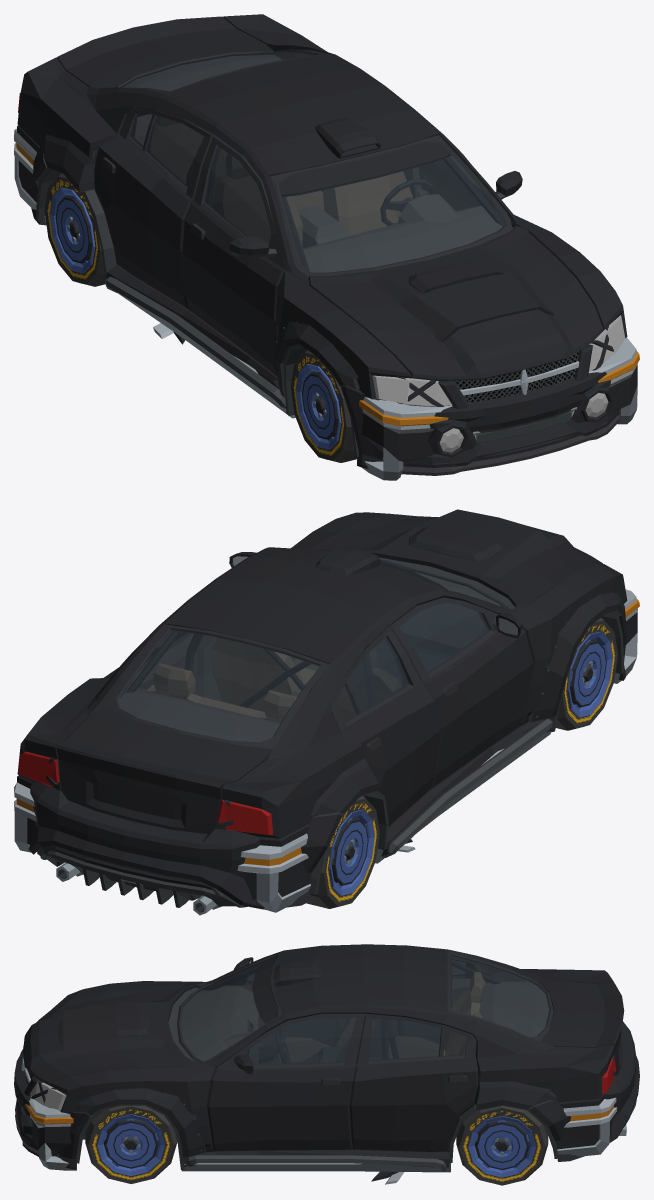
Rendered from redline_street_sedan.glb.
3 renders of one model, top to bottom at view 1: azimuth 30°, elevation 25°; view 2: azimuth 150°, elevation 25°; view 3: azimuth 270°, elevation 25°, orthographic. The views are drawn at different scales.
Parts seen in each view (by area): view 1: Body, Door_R, Glass, V_Fenders_04, V_Bonnet_01, V_Bonnet_02, Trunk, V_Front_Bumper_04, V_Front_Bumper_03, V_Bonnet_04, V_Fenders_02, V_Front_Bumper_02 (+16 smaller); view 2: Body, Door_R, V_Fenders_04, Trunk, Glass, V_Rear_Bumper_02, V_Bonnet_01, V_Rear_Bumper_04, V_Rear_Bumper_01, V_Fenders_02, V_Bonnet_02, V_Rear_Bumper_03 (+15 smaller); view 3: Door_L, Body, V_Fenders_04, Glass, V_Bonnet_01, Trunk, V_Fenders_02, V_Bonnet_02, W_Wheel_RL_03, W_Wheel_FL_03, Door_R, V_Rear_Bumper_04 (+20 smaller).
Part boxes in pixels (<box>): Body: <box>56,16,613,406</box>; Door_R: <box>94,108,284,376</box>; Glass: <box>121,51,504,272</box>; V_Fenders_04: <box>17,14,627,404</box>; V_Bonnet_01: <box>308,225,603,380</box>; V_Bonnet_02: <box>380,249,594,372</box>; Trunk: <box>57,16,273,88</box>; V_Front_Bumper_04: <box>359,337,639,480</box>; V_Front_Bumper_03: <box>403,344,619,466</box>; V_Bonnet_04: <box>430,276,574,379</box>; V_Fenders_02: <box>41,134,359,397</box>; V_Front_Bumper_02: <box>341,385,619,475</box>; Body: <box>51,514,601,835</box>; Door_R: <box>330,597,533,826</box>; V_Fenders_04: <box>17,512,627,838</box>; Trunk: <box>56,708,273,833</box>; Glass: <box>117,559,502,742</box>; V_Rear_Bumper_02: <box>28,782,341,909</box>; V_Bonnet_01: <box>312,514,602,606</box>; V_Rear_Bumper_04: <box>14,775,311,912</box>; V_Rear_Bumper_01: <box>30,786,259,915</box>; V_Fenders_02: <box>311,592,623,815</box>; V_Bonnet_02: <box>380,509,594,575</box>; V_Rear_Bumper_03: <box>31,782,259,907</box>; Door_L: <box>207,1013,478,1151</box>; Body: <box>21,944,622,1152</box>; V_Fenders_04: <box>44,969,614,1147</box>; Glass: <box>180,954,549,1060</box>; V_Bonnet_01: <box>23,984,195,1085</box>; Trunk: <box>538,980,624,1075</box>; V_Fenders_02: <box>76,1076,557,1157</box>; V_Bonnet_02: <box>46,1001,165,1075</box>; W_Wheel_RL_03: <box>456,1106,548,1185</box>; W_Wheel_FL_03: <box>85,1105,177,1183</box>; Door_R: <box>222,957,476,1057</box>; V_Rear_Bumper_04: <box>554,1093,617,1158</box>.
Bounding box in the file's own units: 1.87 × 1.35 × 4.41.
5 materials, 3 textured.
